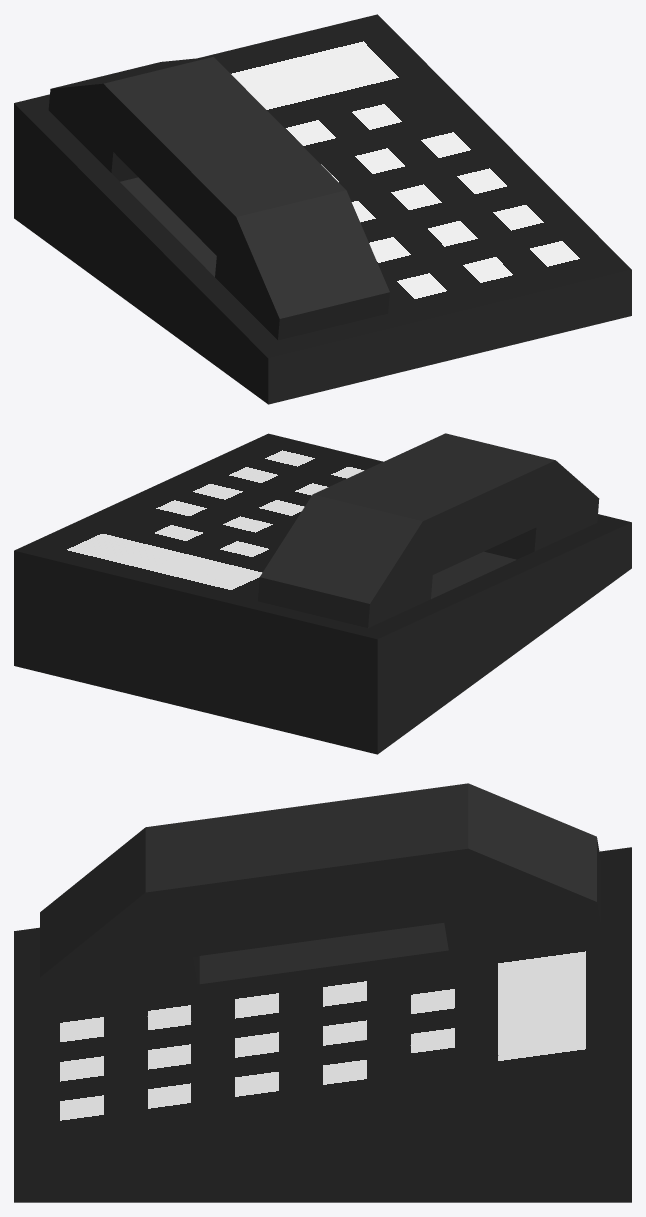
Rendered from phone.glb.
The picture shows the model from 3 angles, top to bottom: view 1: azimuth 30°, elevation 25°; view 2: azimuth 150°, elevation 25°; view 3: azimuth 270°, elevation 25°; orthographic projection. The views are drawn at different scales.
Parts seen in each view (by area): view 1: Phone; view 2: Phone; view 3: Phone.
Boxes of the visible parts, bbox=[...] form: Phone: bbox=[14, 14, 631, 404]; Phone: bbox=[14, 433, 631, 754]; Phone: bbox=[14, 783, 631, 1202].
Bounding box in the file's own units: 0.33 × 0.1549 × 0.4.
Materials: 1 (1 with a texture image).
